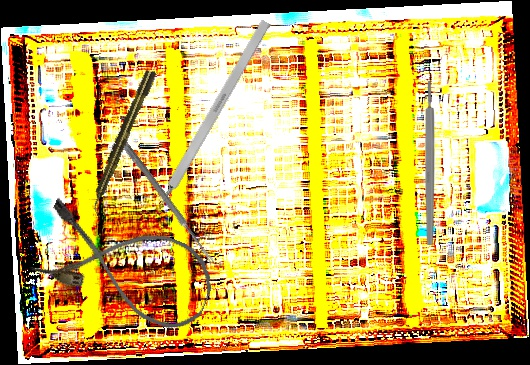Cannula: (27, 192, 224, 339)
Handpiece: (85, 67, 159, 215)
Hook Surgical: (144, 19, 272, 228)
Scalpel Handle: (425, 81, 435, 245)
Surgical Spoon: (115, 135, 217, 265)
